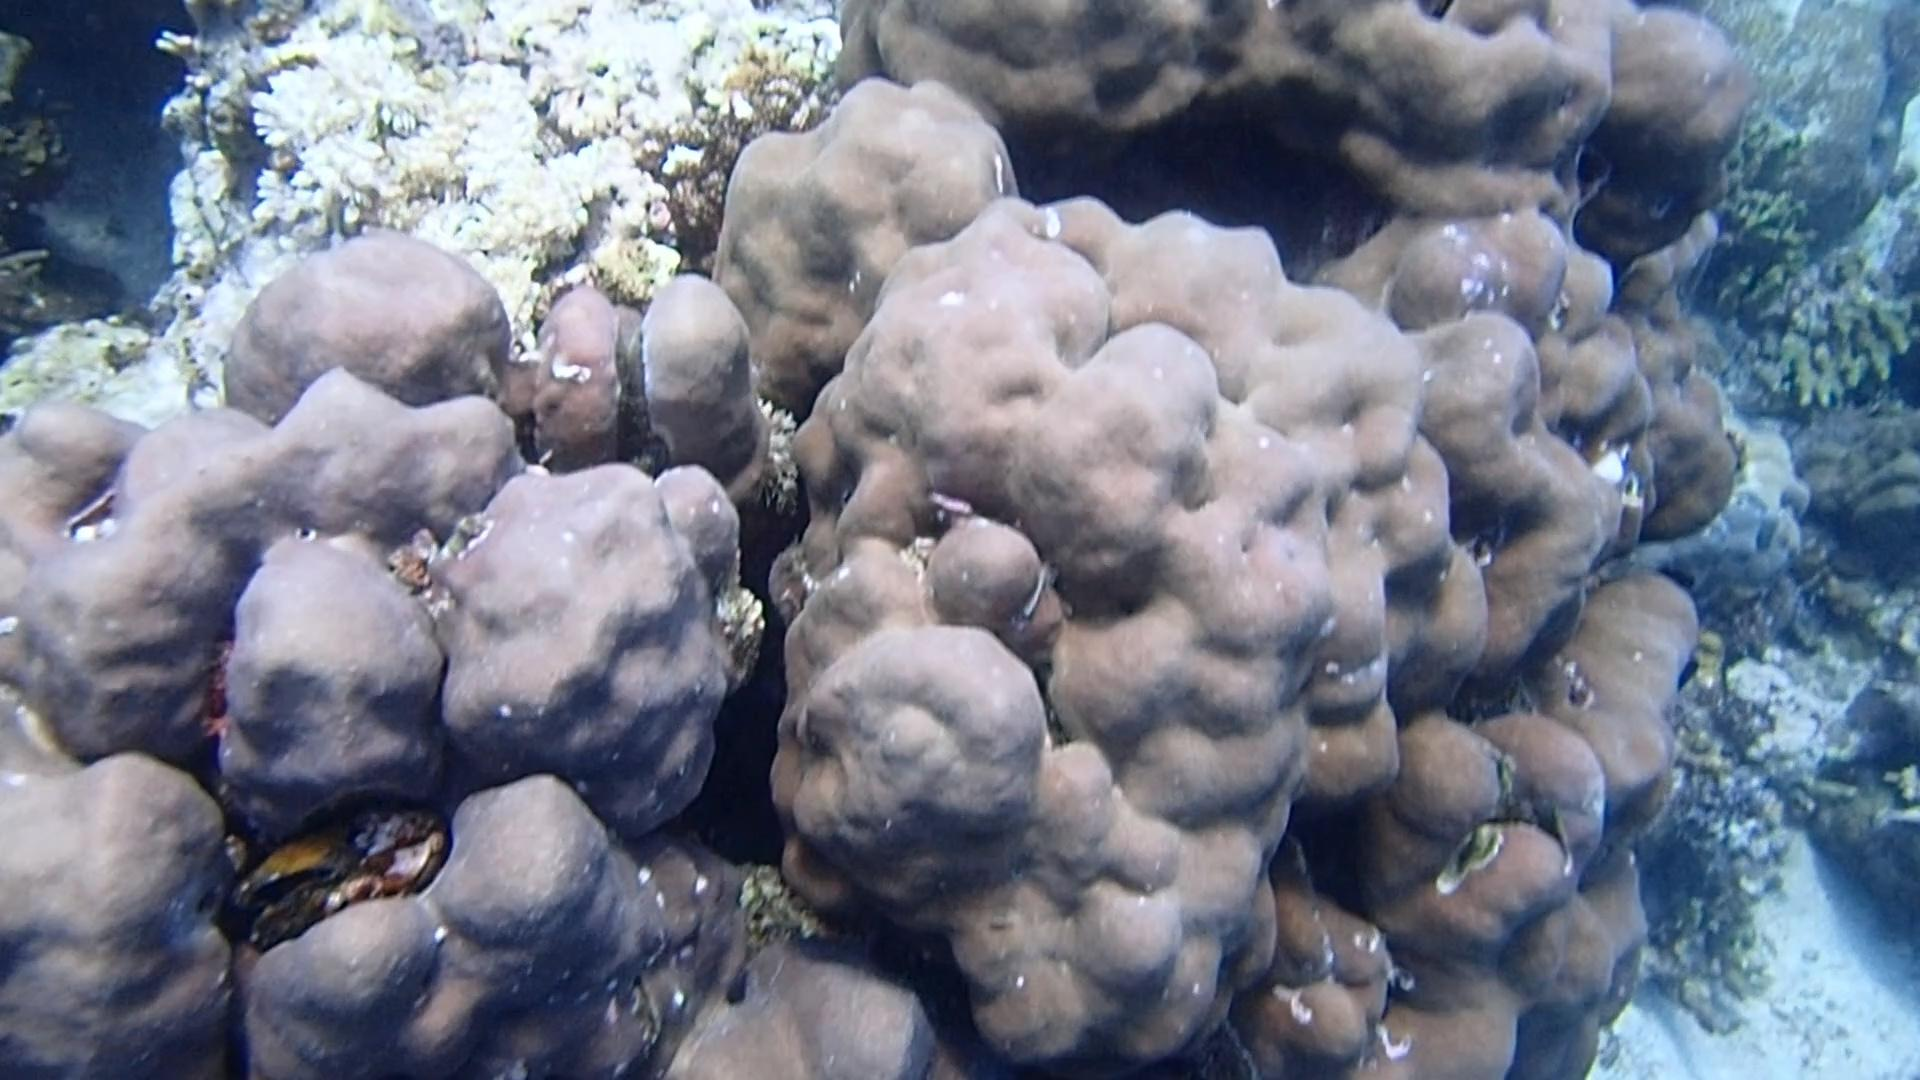Dark Fish: (1654, 549, 1706, 603)
